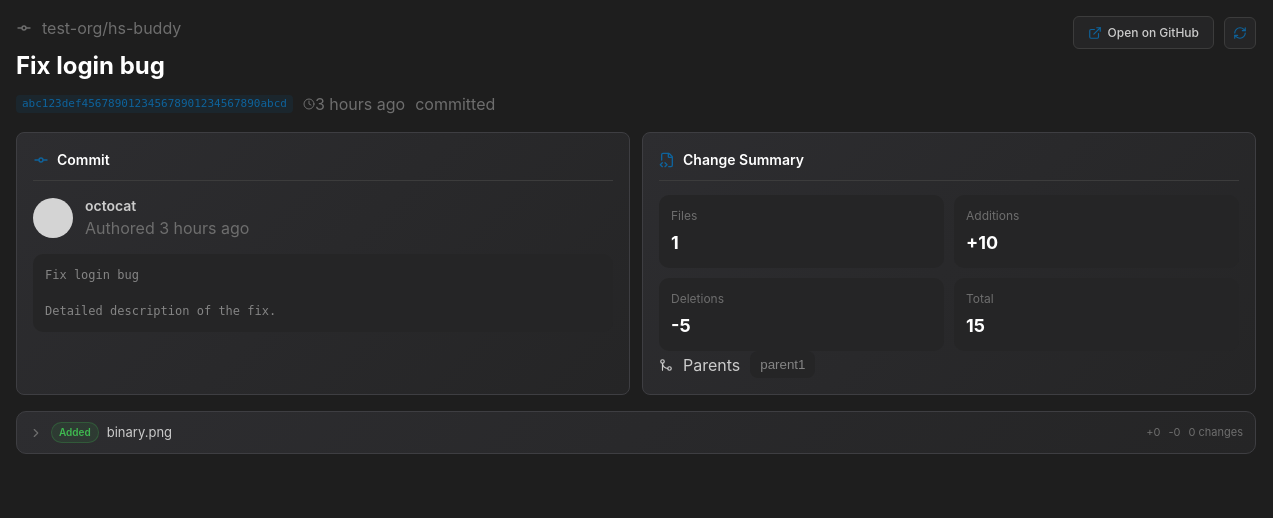
Test: RepoCommitDetailPanel › shows empty diff message for file with no patch
expect the text "binary.png" is shown: met, box [107, 423, 172, 442]
Click the button "added binary.png +0 -0 0 changes" at (75, 432), box [29, 422, 1243, 443]
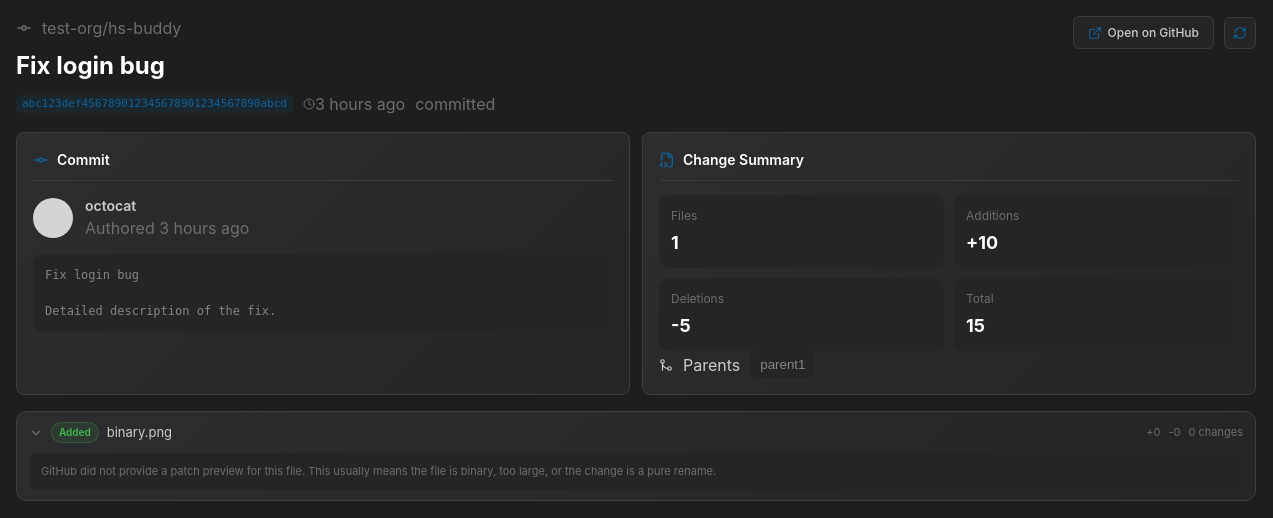
expect the text "GitHub did not provide a patch preview" is shown: met, box [41, 464, 716, 478]
